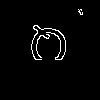Q: (26, 23, 70, 76)
